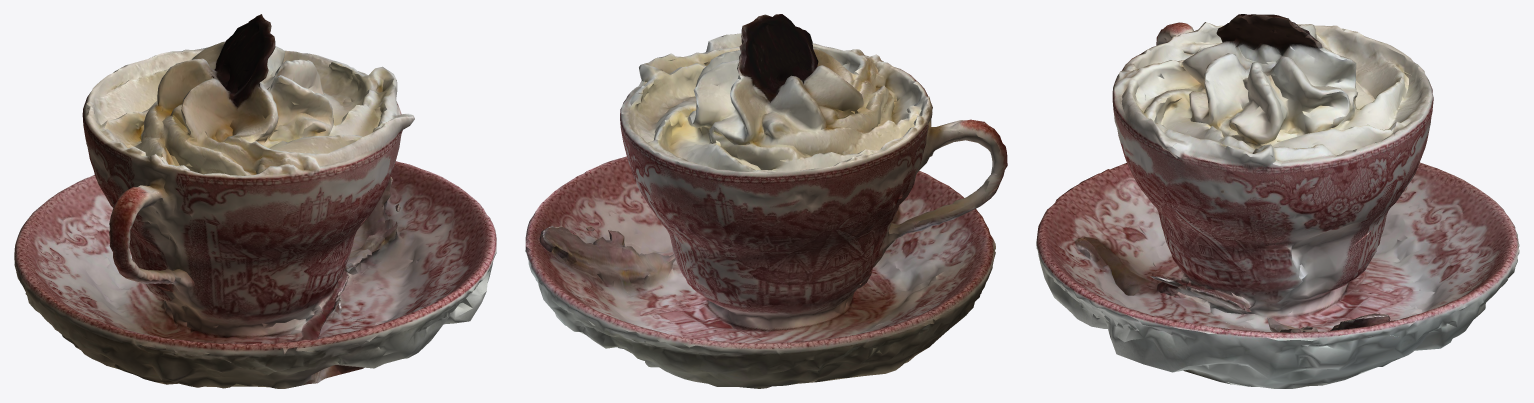
The model's file is drink-cafe-chantilly-android.glb.
3 views of the same model, side by side, from view 1: azimuth 30°, elevation 25°; view 2: azimuth 150°, elevation 25°; view 3: azimuth 270°, elevation 25° (orthographic). The views are drawn at different scales.
Parts seen in each view (by area): view 1: Object_2; view 2: Object_2; view 3: Object_2.
Boxes of the visible parts, x1=… form: Object_2: x1=14, y1=14, x2=496, y2=388; Object_2: x1=525, y1=14, x2=1007, y2=388; Object_2: x1=1036, y1=14, x2=1519, y2=388.
Size of the model in its own units: 0.1419 by 0.0965 by 0.1412.
Materials: 1 (1 with a texture image).
